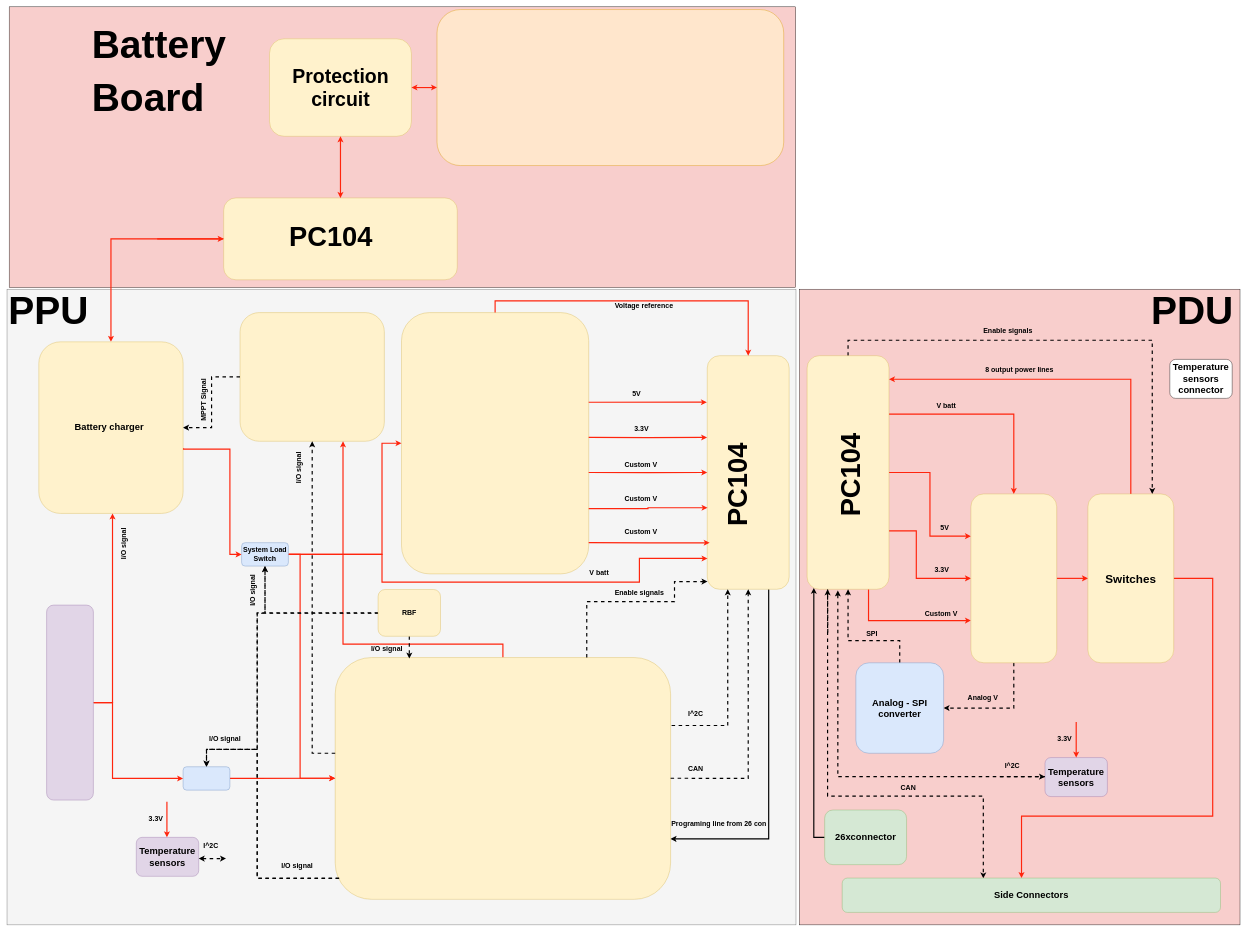
Some shapes in this 1247 by 932 pixel diagram are drawn without their labels. Here are the shapes that lost their labels. From the top down, the centre of each, then its label:
At [610,87]: "Battery".
At [312,376]: "MPPT controller".
At [495,443]: "Power Processing".
At [1014,578]: "Current Sensors".
At [69,702]: "Solar Panels 1...6".
At [206,778]: "Bypass Load Switch".
At [503,778]: "Power Control Unit".
